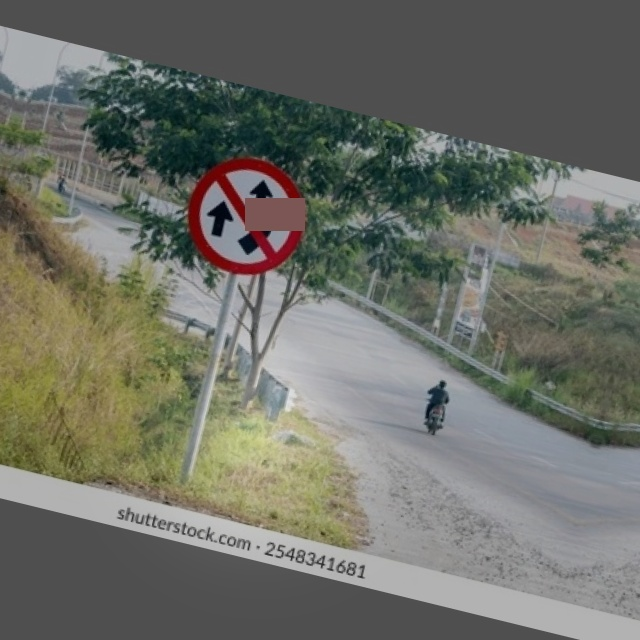Overtaking_Prohibited: (179, 145, 315, 285)
